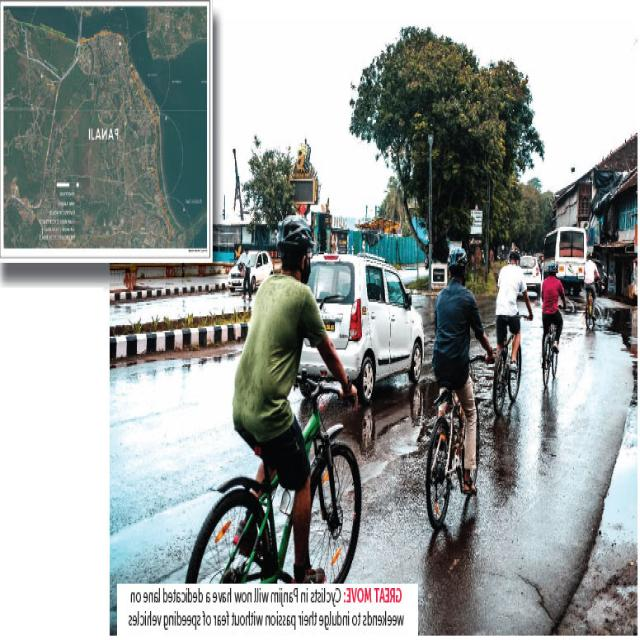bicycle: (186, 217, 361, 584), (426, 245, 495, 530), (492, 245, 532, 416), (541, 261, 566, 384)
bus: (544, 228, 586, 296)
car: (310, 254, 425, 404)
